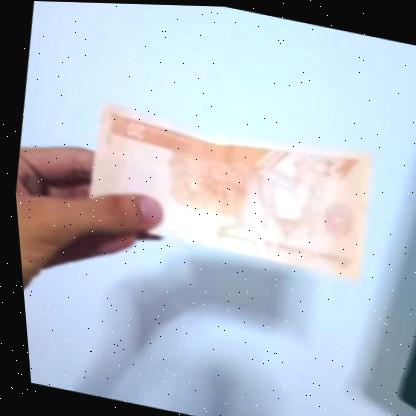twenty-back-vef: (67, 92, 379, 285)
